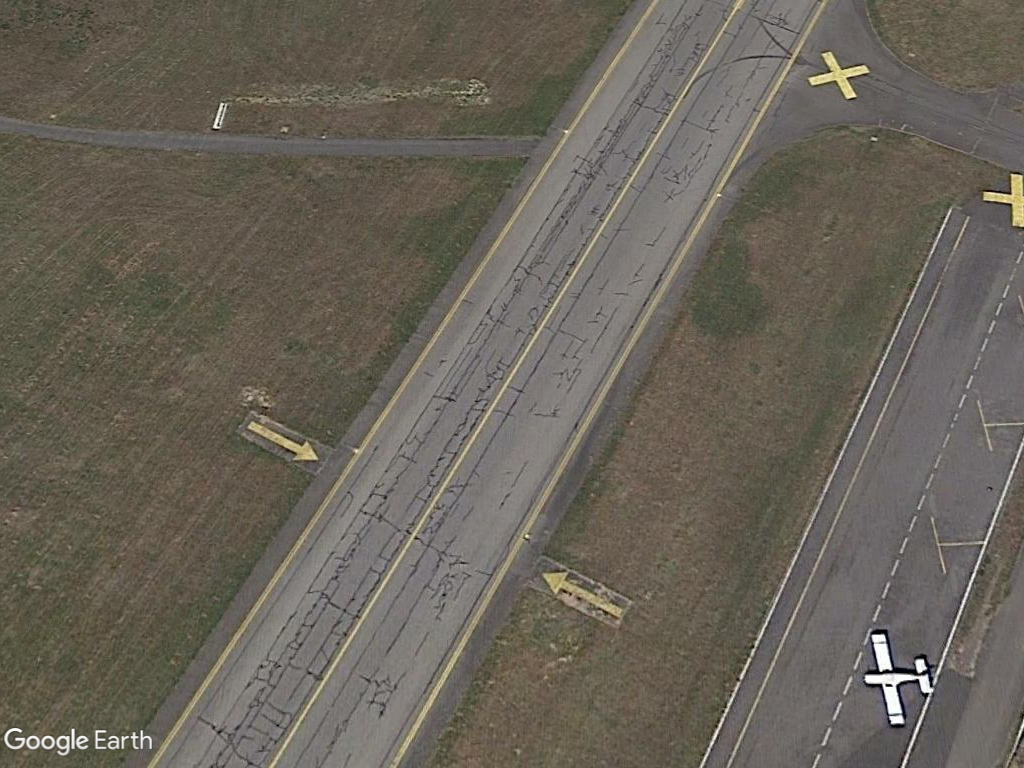trainer: (860, 629, 937, 731)
